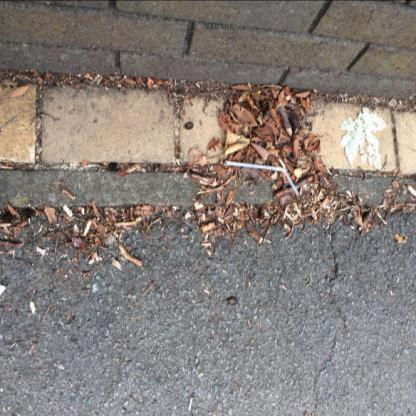Straw: (226, 161, 299, 195)
